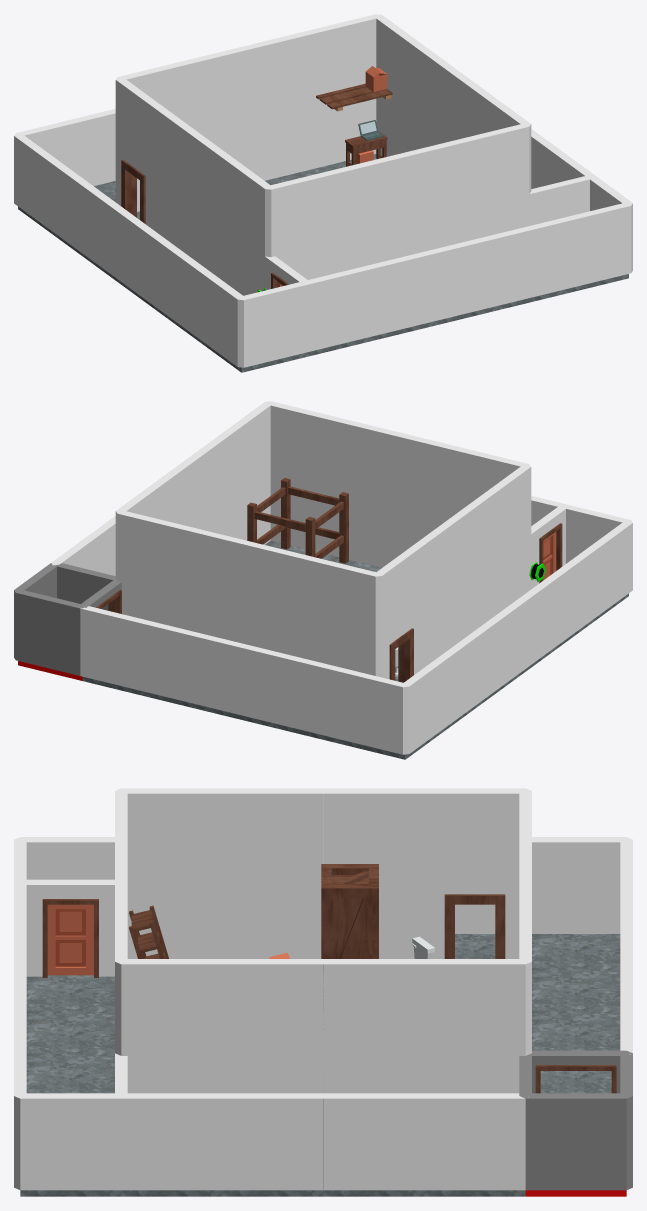
File: Level_1_0_Locked.fbx
The picture shows the model from 3 angles, top to bottom: view 1: azimuth 30°, elevation 25°; view 2: azimuth 150°, elevation 25°; view 3: azimuth 270°, elevation 25°; orthographic projection. The views are drawn at different scales.
Parts seen in each view (by area): view 1: mergedBlocks; view 2: mergedBlocks; view 3: mergedBlocks.
Boxes of the visible parts, box(x1,y1,x2,y2) form: mergedBlocks: box(14, 14, 632, 372); mergedBlocks: box(14, 401, 632, 759); mergedBlocks: box(14, 788, 632, 1196).
Bounding box in the file's own units: 61.25 × 21 × 61.25.
19 materials, 3 textured.
